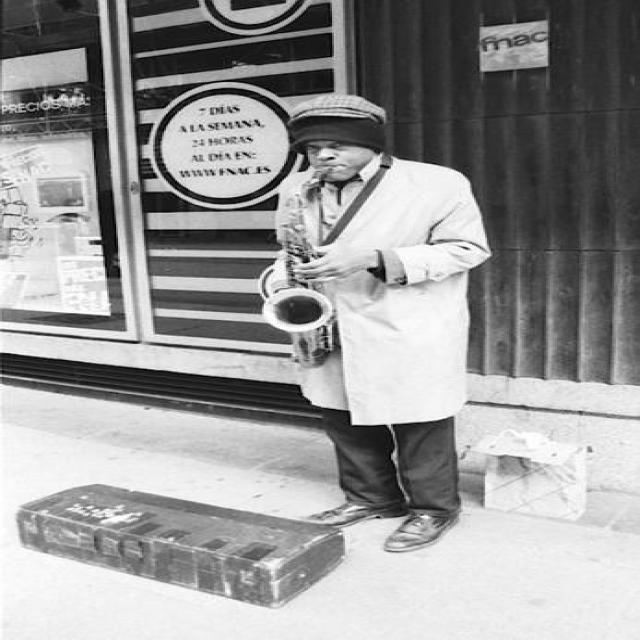saxophone: (254, 169, 368, 370)
